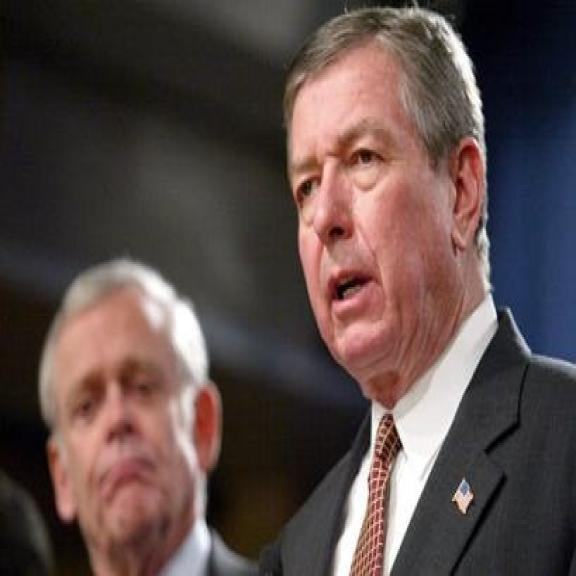face: (281, 43, 488, 380), (40, 291, 232, 544)
